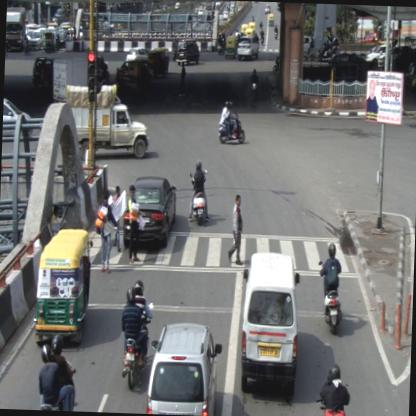car: (239, 252, 301, 396), (145, 322, 222, 416), (122, 176, 176, 250), (2, 97, 34, 145), (236, 36, 260, 63), (30, 30, 46, 50)
motorcycle: (120, 281, 155, 390), (36, 334, 78, 410), (316, 242, 344, 334), (188, 160, 210, 222), (219, 101, 247, 146), (96, 52, 112, 81), (218, 32, 227, 55), (258, 28, 266, 46), (273, 25, 278, 40)
truck: (64, 85, 151, 161), (31, 58, 88, 106), (6, 6, 27, 52)
